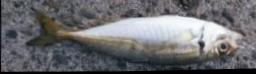fish: (25, 8, 244, 67)
